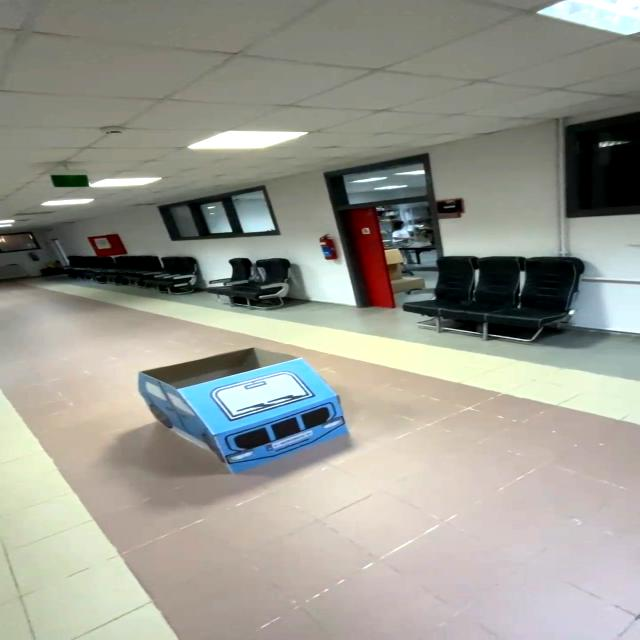blue_car: (111, 338, 376, 494)
